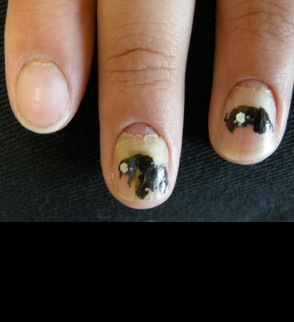SJS-TEN: (87, 97, 206, 222), (211, 68, 289, 170), (0, 35, 79, 102)
